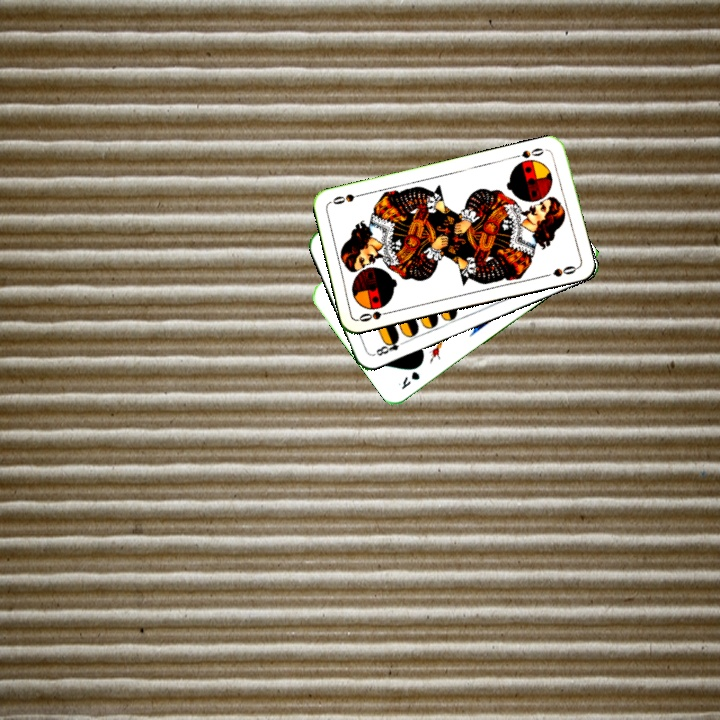E8: (370, 332, 409, 358)
GK: (398, 367, 423, 392)
SO: (355, 307, 395, 324), (510, 144, 546, 161)
